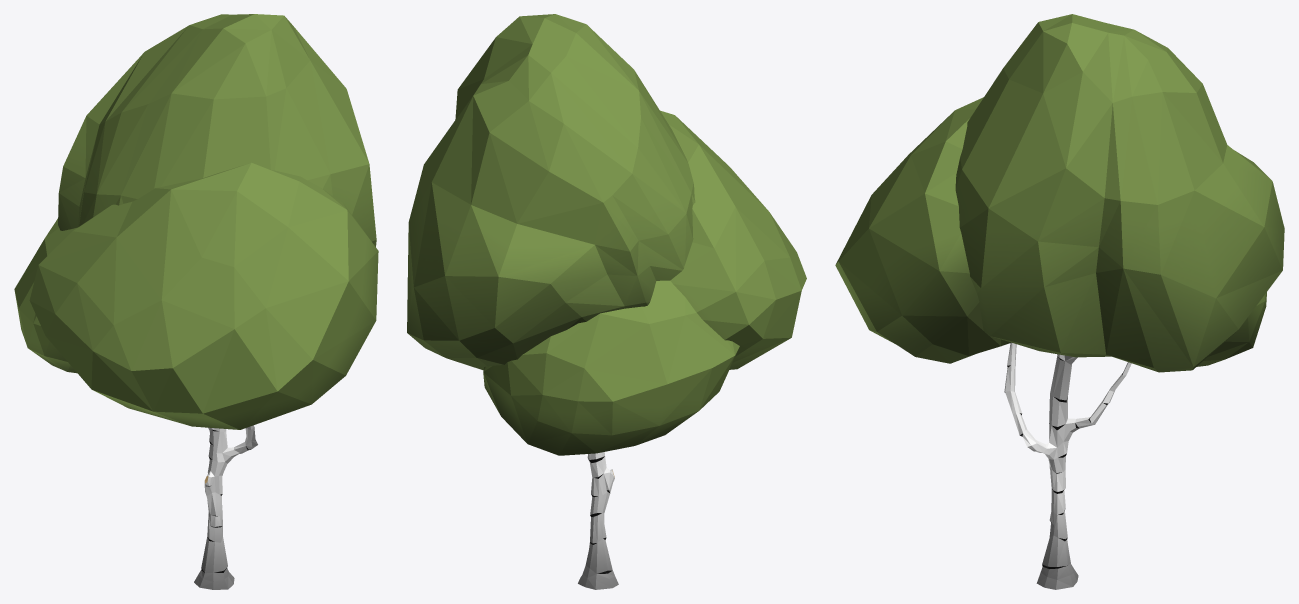
File: TreeBirch-02.FBX
3 views of the same model, side by side, from view 1: azimuth 30°, elevation 25°; view 2: azimuth 150°, elevation 25°; view 3: azimuth 270°, elevation 25° (orthographic). The views are drawn at different scales.
Parts seen in each view (by area): view 1: TreeBirch-02; view 2: TreeBirch-02; view 3: TreeBirch-02.
Part boxes in pixels (x1,y1,x2,y2): TreeBirch-02: (14,14,378,589); TreeBirch-02: (407,14,806,589); TreeBirch-02: (835,14,1284,589).
Size of the model in its own units: 555 by 941 by 658.
Materials: 1 (1 with a texture image).
